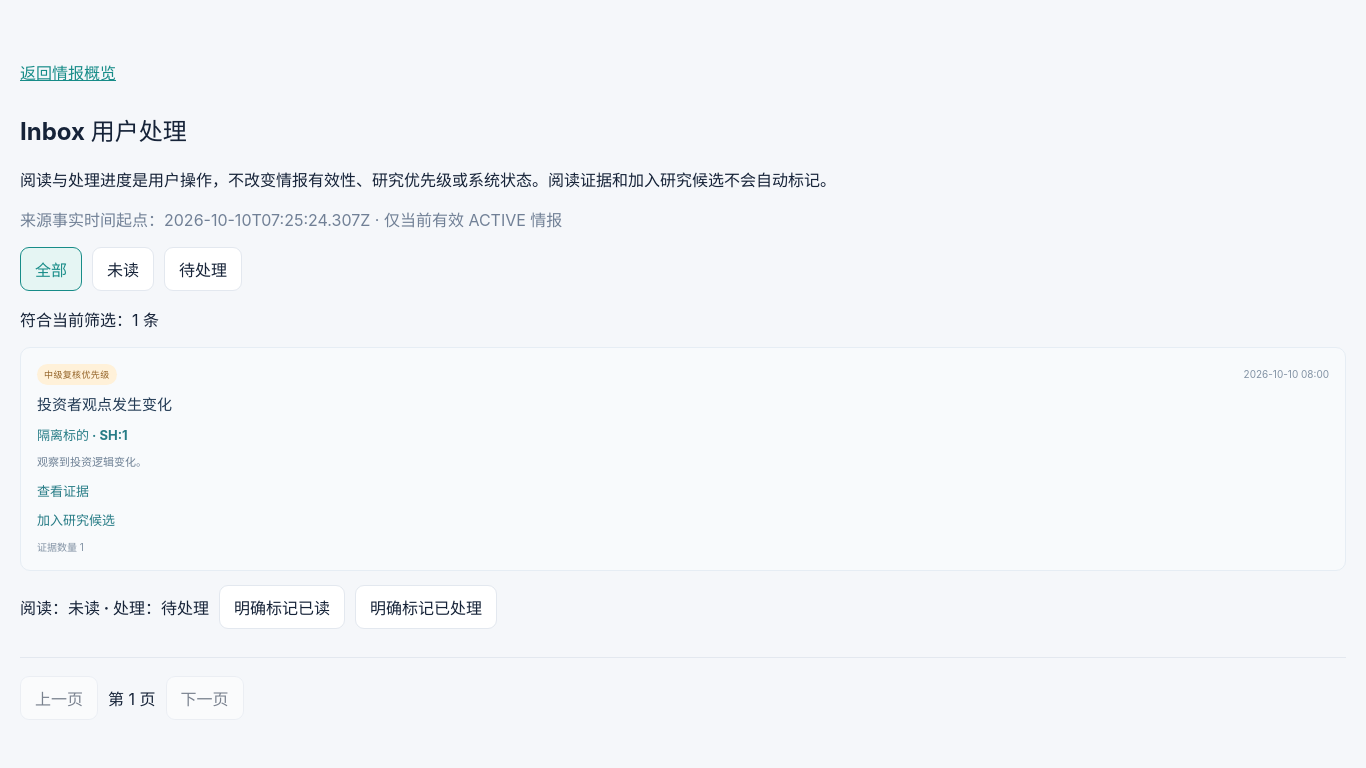
Test: failed save does not show saved or flip the state
The width and height of the screenshot is (1366, 768).
Check: the text "阅读：未读 · 处理：待处理" is shown, box [20, 595, 209, 619]
Click the button "明确标记已处理": (426, 607) [355, 585, 497, 629]
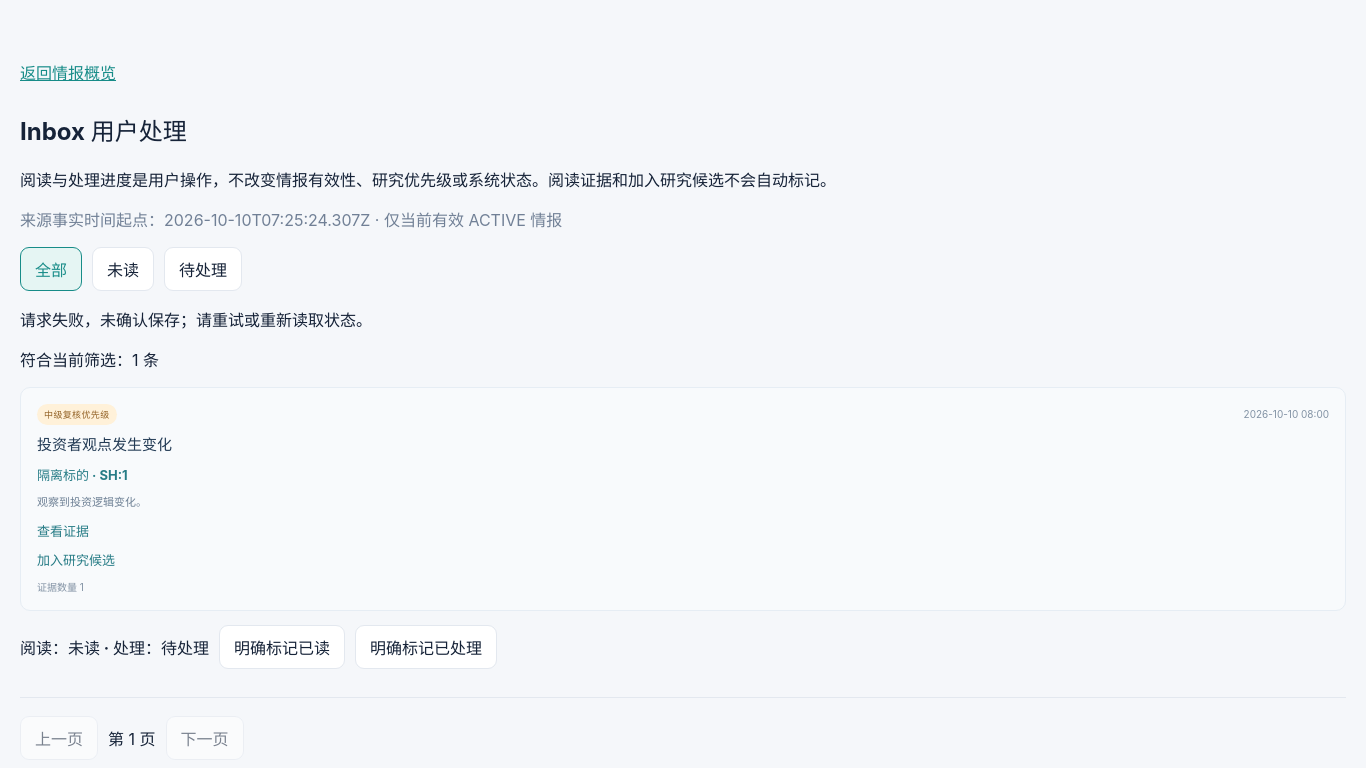
Check: the text "阅读：未读 · 处理：待处理" is shown, box [20, 635, 209, 659]
Check: the message "请求失败，未确认保存；请重试或重新读取状态。" is shown, box [20, 310, 372, 330]
